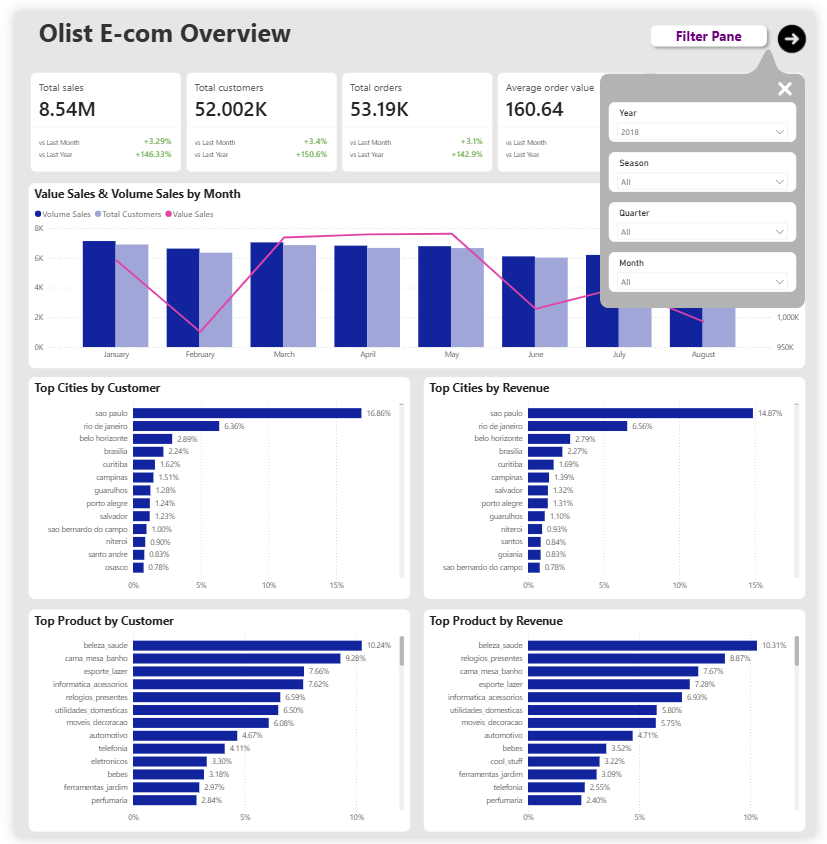

Layout of this report page (visuals, bound fields, positions):
{"tool":"powerbi","page":{"name":"Executive Overview","canvas":[1280,1320],"ordinal":0},"visuals":[{"type":"shape","box":[0,0,1280,80],"z":0},{"type":"actionButton","box":[1223.3,11.7,56.7,51.7],"z":1000},{"type":"columnChart","fields":{"Category":["dim_date.Year-Month"],"Y":["_measure.revenue_order"],"Series":["fact_orders.customer_type"]},"box":[21.7,963.3,1241.7,356.7],"z":2000},{"type":"clusteredBarChart","fields":{"Category":["dim_customers.customer_state"],"Y":["_measure.payment_value"]},"box":[656.7,583.3,606.7,358.3],"z":3000},{"type":"clusteredBarChart","fields":{"Category":["fact_order_items.category"],"Y":["_measure.item_revenue"]},"box":[21.7,583.3,618.3,358.3],"z":4000},{"type":"lineClusteredColumnComboChart","title":"Monthly revenue and average order value","fields":{"Category":["dim_date.Year","dim_date.Month"],"Y":["_measure.revenue_order"],"Y2":["_measure.AOV"]},"box":[22,274,1242,296],"z":5000},{"type":"cardVisual","fields":{"Data":["_measure.Revenue","_measure.orders","_measure.customers","_measure.AOV"]},"box":[0,80,1280,193.3],"z":6000},{"type":"slicer","title":"State","fields":{"Values":["dim_customers.customer_state"]},"box":[1001.3,8.3,166.7,61.7],"z":7000},{"type":"slicer","title":"Month","fields":{"Values":["dim_date.Month"]},"box":[834.9,8.3,161.2,62.5],"z":8000},{"type":"slicer","title":"Year","fields":{"Values":["dim_date.Year"]},"box":[668,8.3,161.7,61.7],"z":9000},{"type":"actionButton","box":[1170,32,50,34],"z":10000}]}

Visuals, with their boxes in screenshot pixels (x1, y1, x2, y2), scaled from the page's 1280x1320 canvas onto the 827x844 screenshot:
shape: bbox(0, 0, 826, 51)
actionButton: bbox(790, 7, 826, 41)
columnChart - dim_date.Year-Month x _measure.revenue_order: bbox(14, 616, 816, 843)
clusteredBarChart - dim_customers.customer_state x _measure.payment_value: bbox(424, 373, 816, 602)
clusteredBarChart - fact_order_items.category x _measure.item_revenue: bbox(14, 373, 414, 602)
"Monthly revenue and average order value" lineClusteredColumnComboChart: bbox(14, 175, 817, 364)
cardVisual - _measure.Revenue x _measure.orders: bbox(0, 51, 826, 175)
"State" slicer: bbox(647, 5, 755, 45)
"Month" slicer: bbox(539, 5, 644, 45)
"Year" slicer: bbox(432, 5, 536, 45)
actionButton: bbox(756, 20, 788, 42)
